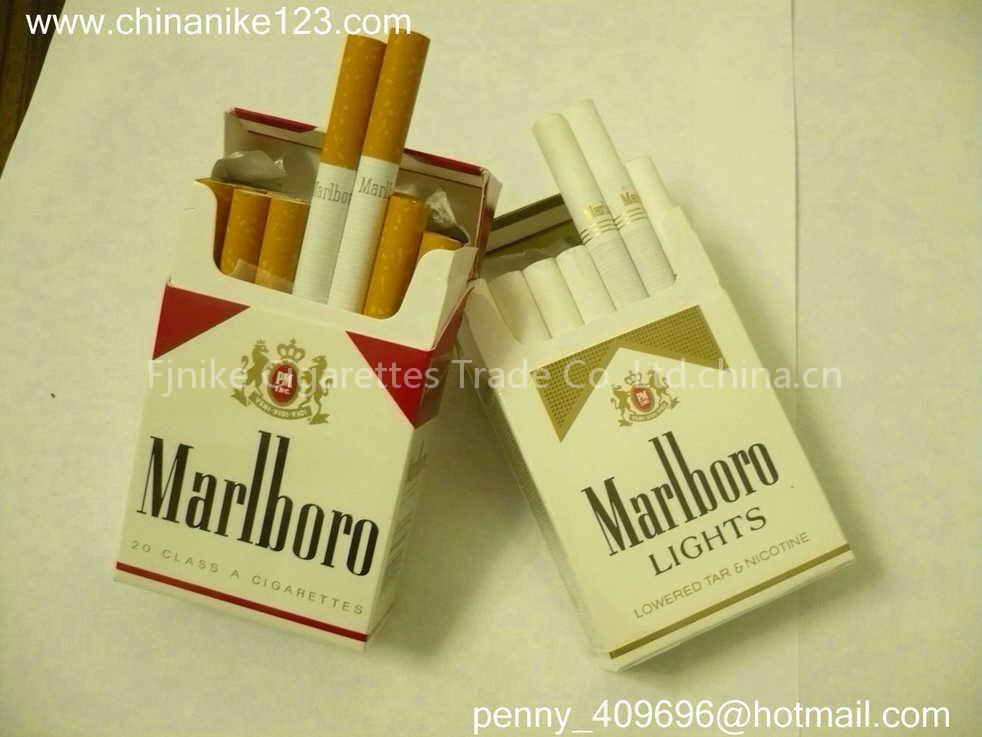marlboro_red: (129, 265, 416, 622)
